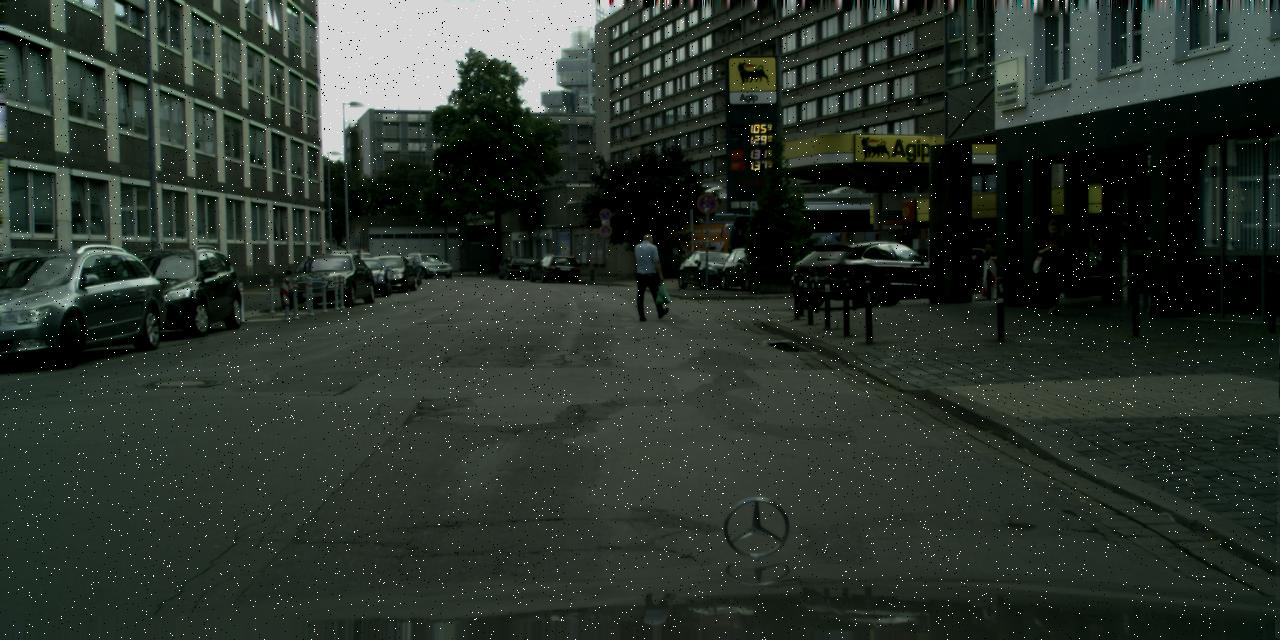ped: (1033, 217, 1073, 314), (632, 234, 667, 319)
